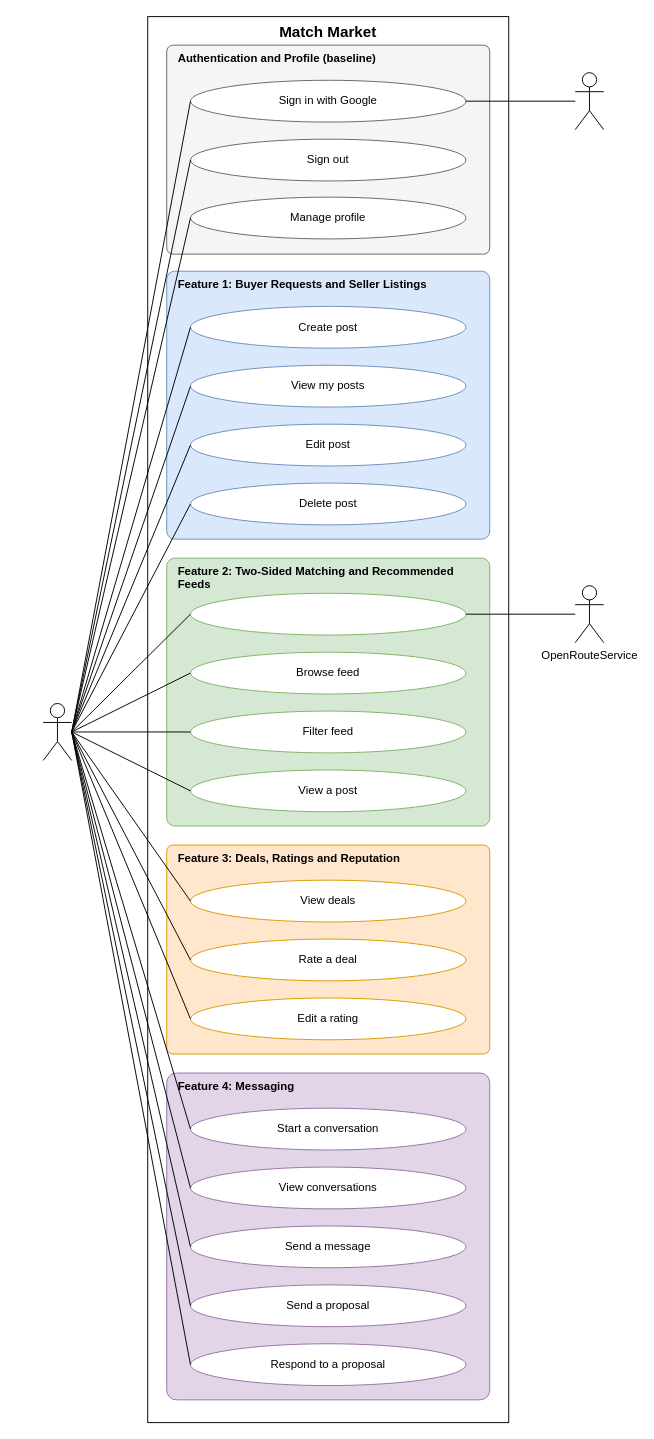
Image size: 654x1439. Some labels were removed from this diagram. Each missing label, with the centre of its shape:
"Google Auth" goes at (589,101).
"User (Buyer or Seller)" goes at (57,731).
"View recommendations for a post" goes at (328,613).
